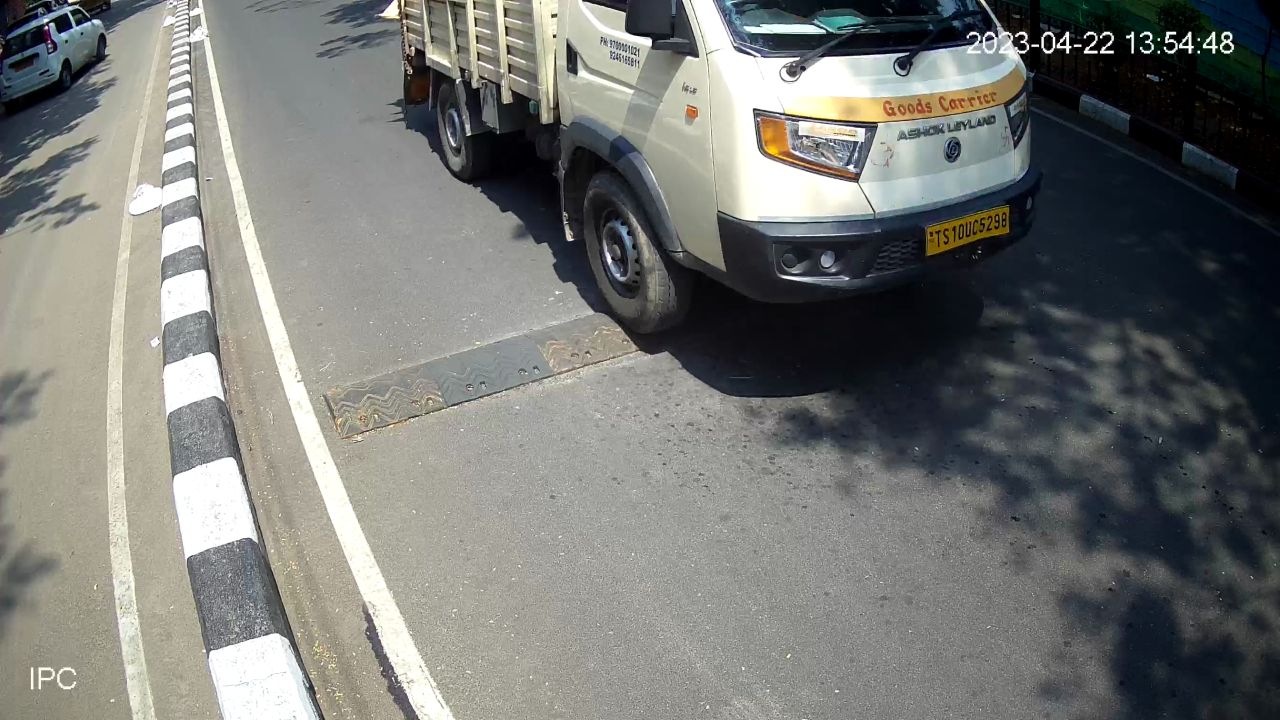license_plate: (917, 199, 1018, 263)
